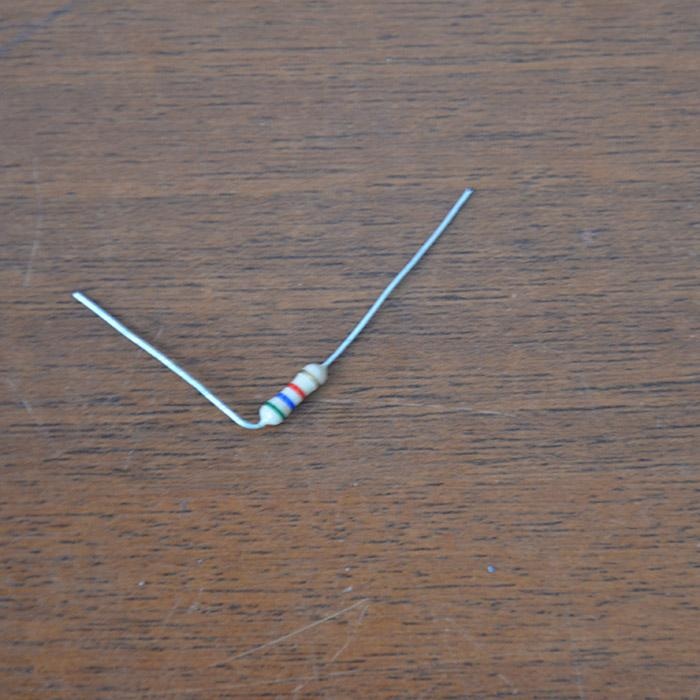resistor: (259, 363, 326, 425)
